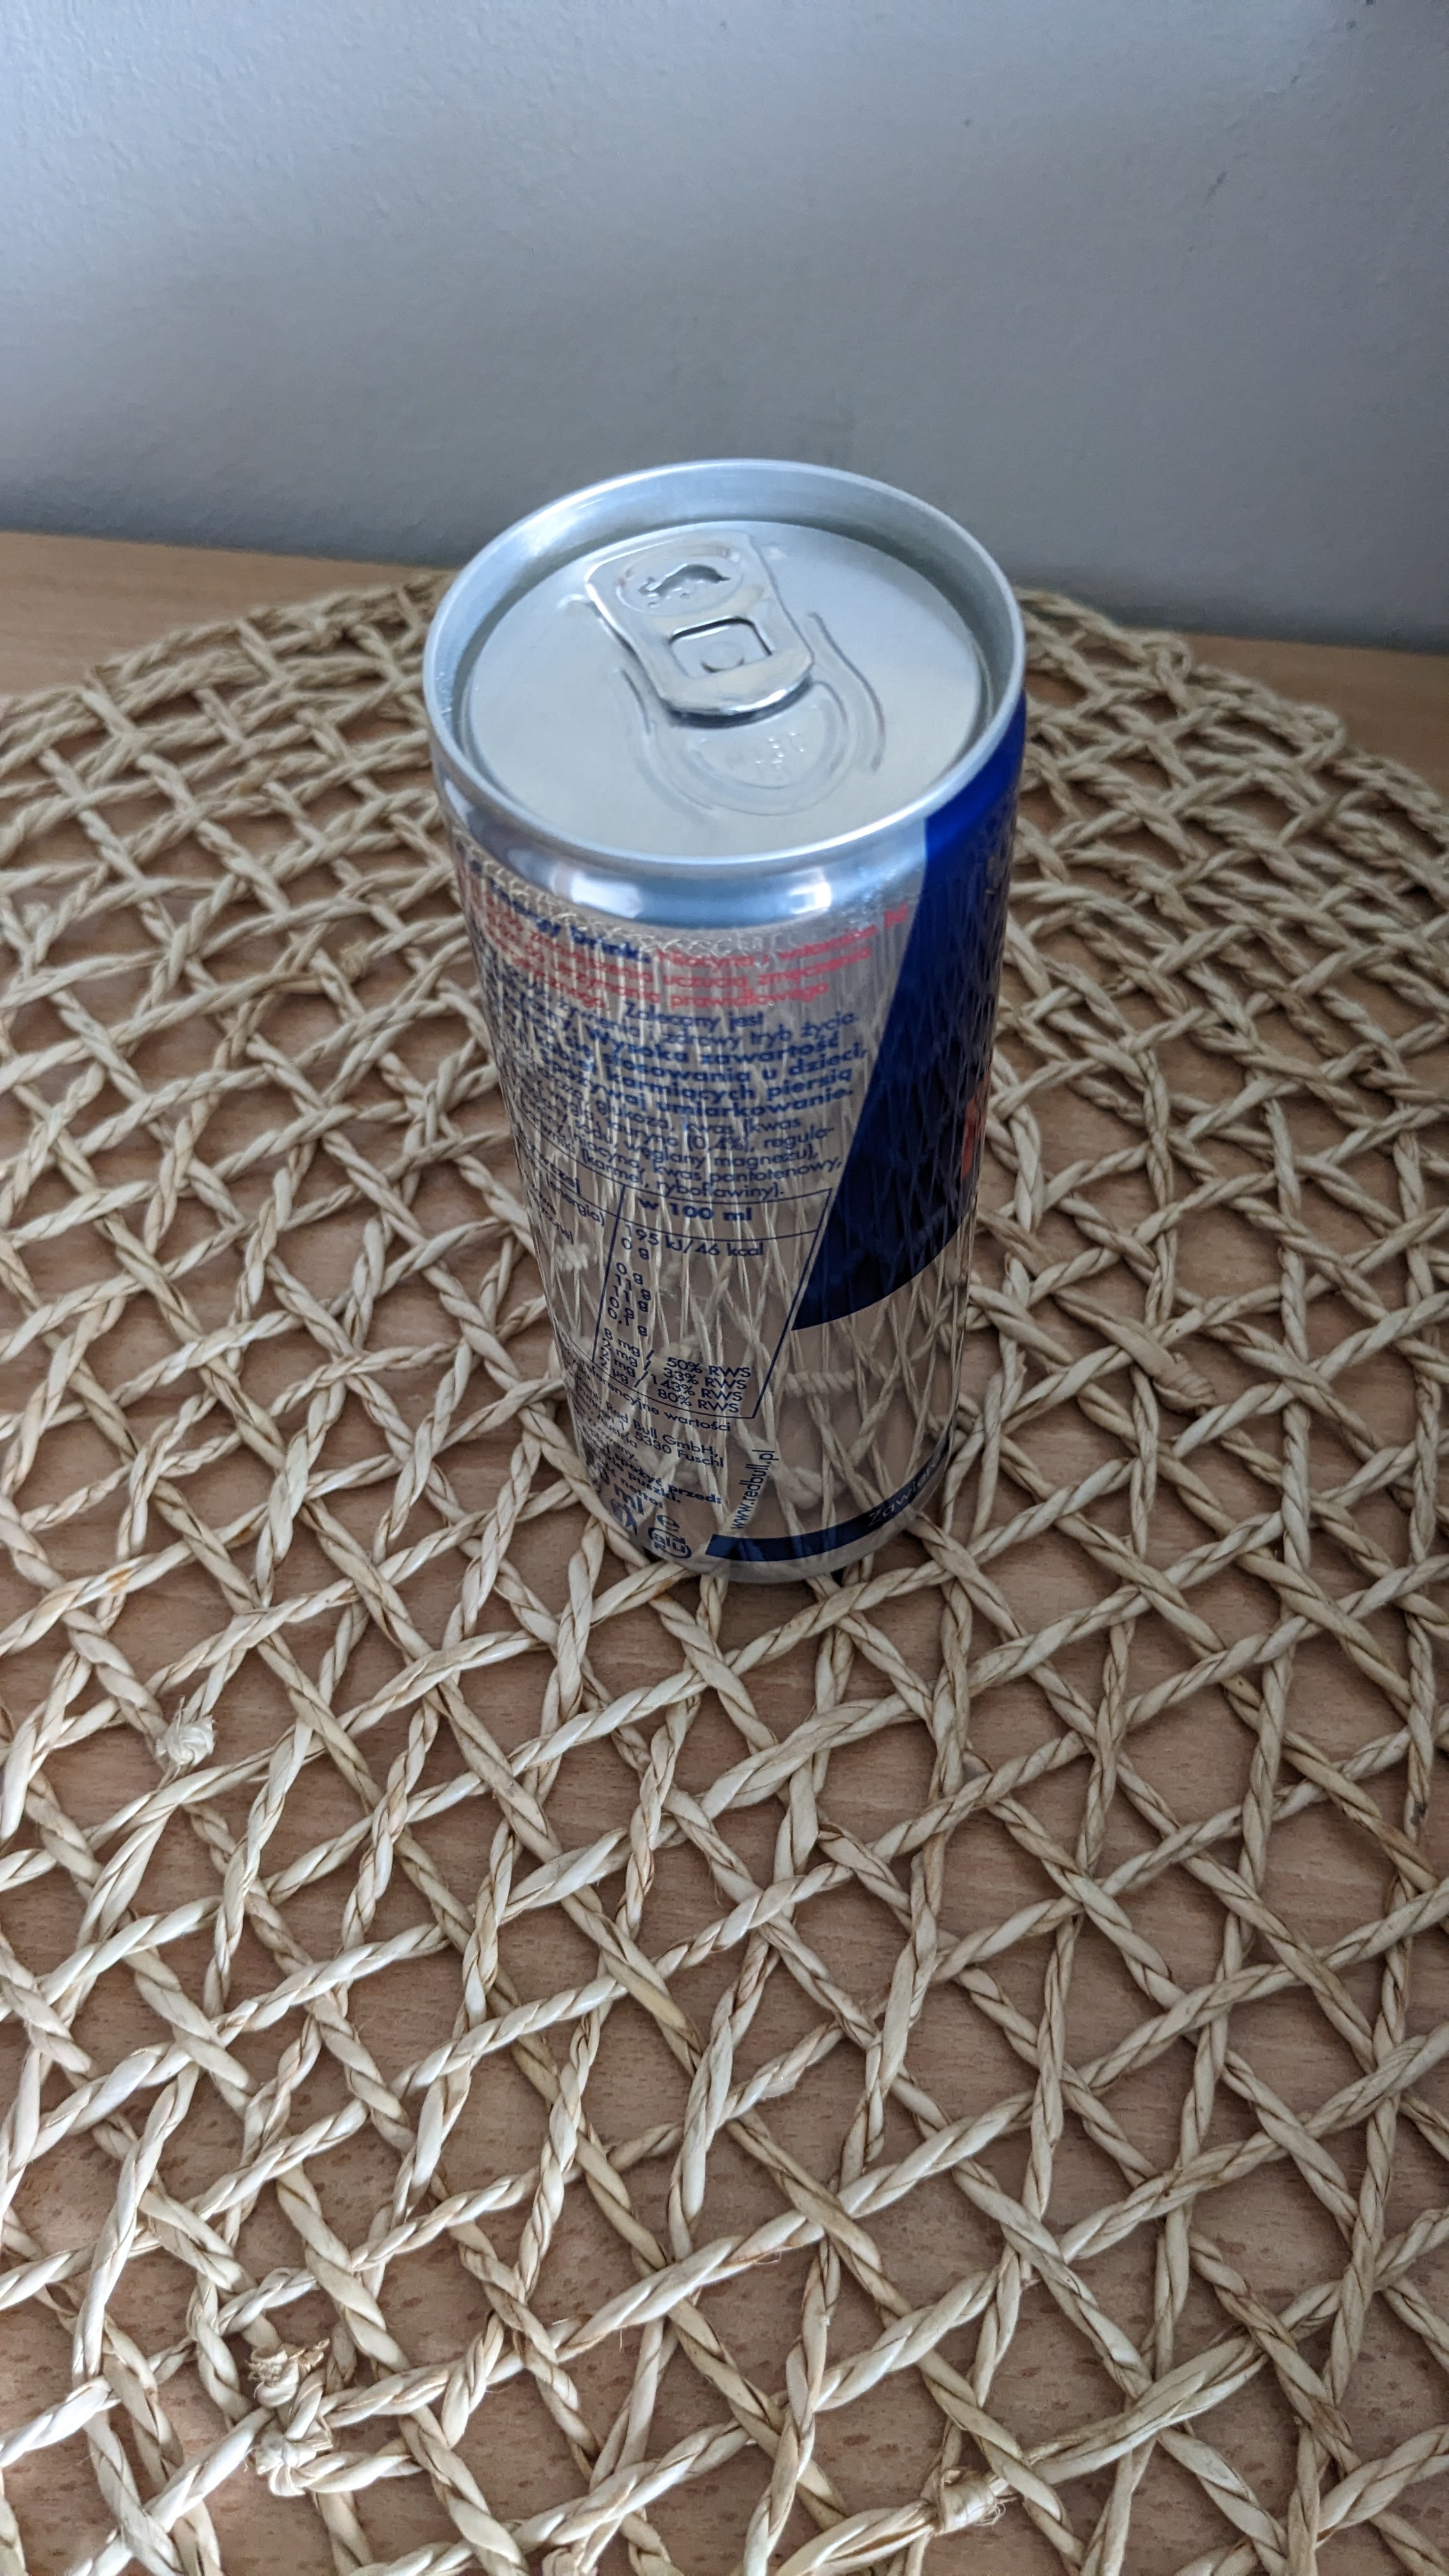red-bull: (425, 442, 1072, 1656)
